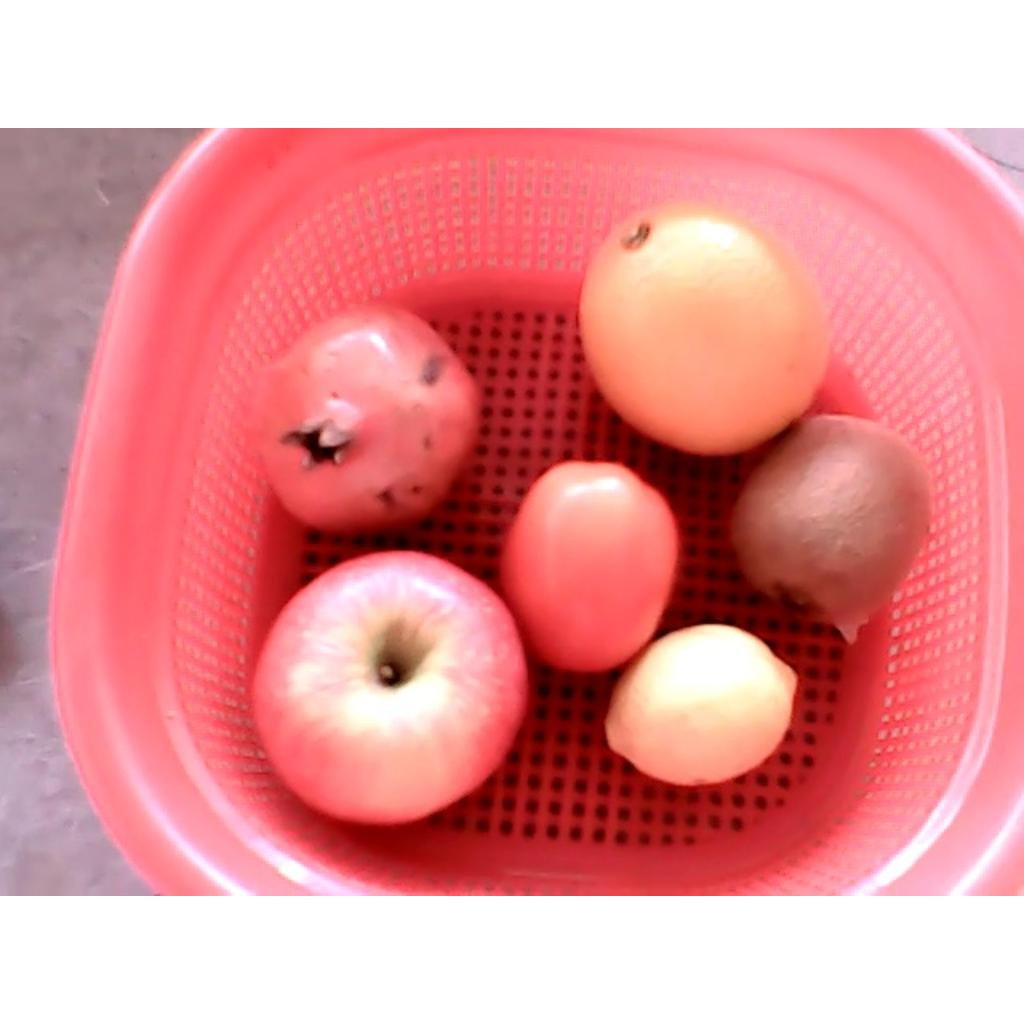apple: (252, 549, 529, 822)
kiwi: (728, 416, 934, 630)
lemon: (607, 622, 797, 784)
orange: (579, 199, 830, 457)
pomegranate: (255, 298, 485, 532)
tomato: (502, 457, 678, 672)
